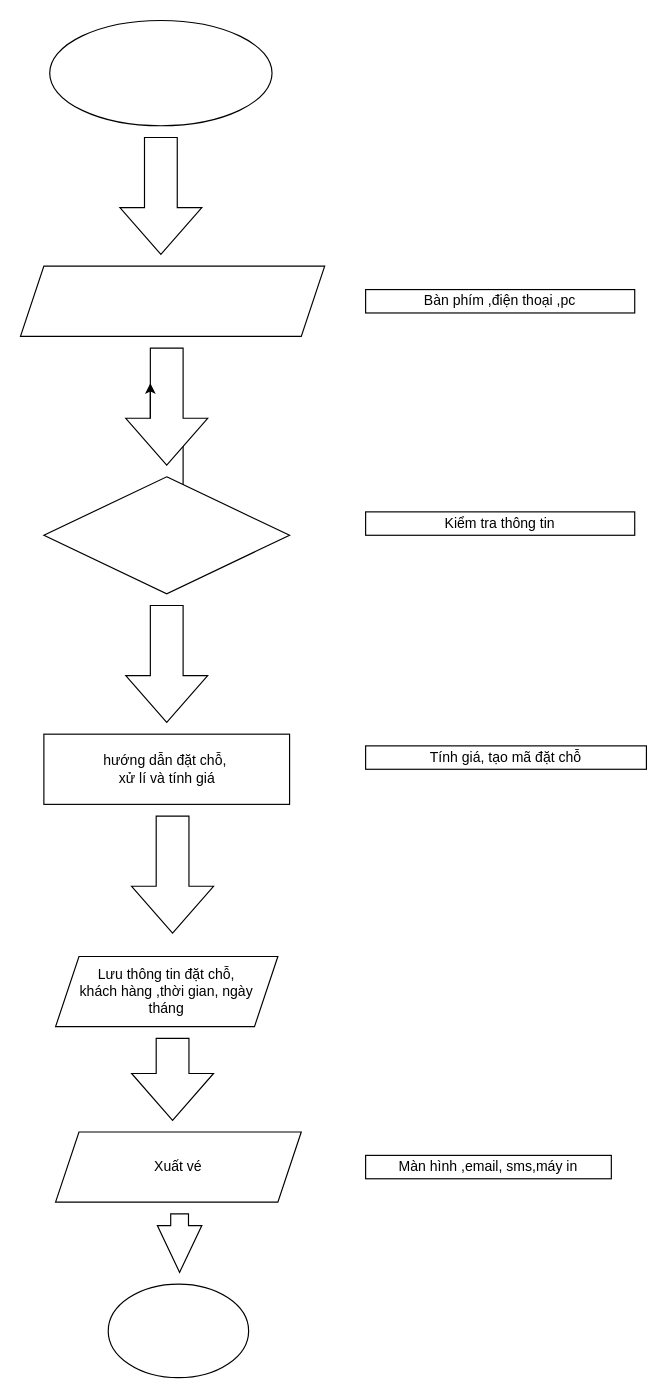
Some shapes in this 667 by 1398 pixel diagram are drawn without their labels. The centre of each missing label's shape, as x and y in pixels:
BBắt Đầu: the point at 160,72
Thông tin chuyến bay và khách hàng: the point at 172,300
Xử lí thông tin hợp lệ (còn hay hết chỗ): the point at 166,535
